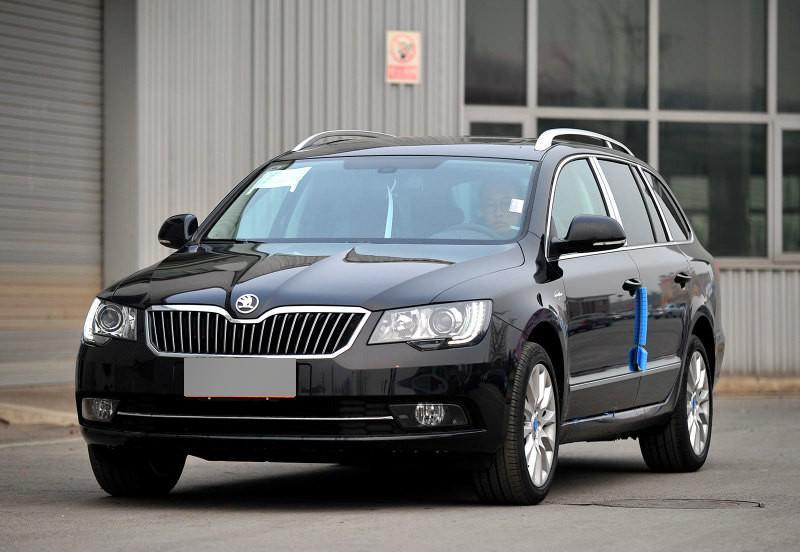Wagon: (73, 125, 727, 506)
